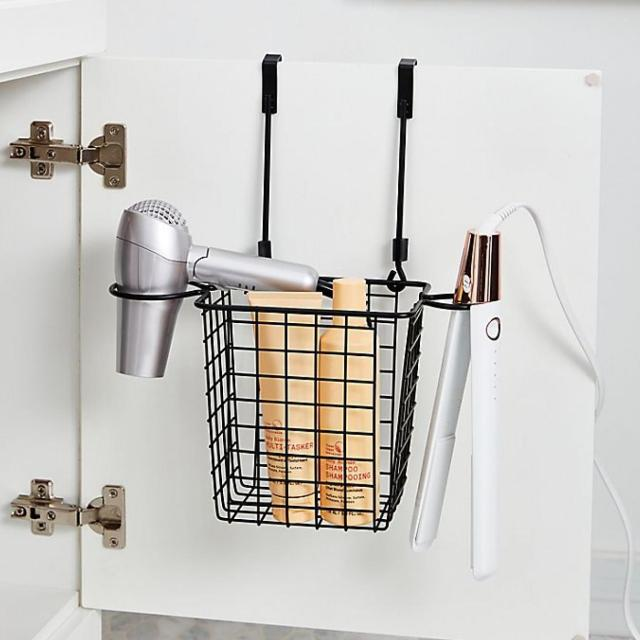dryer: (88, 189, 328, 391)
